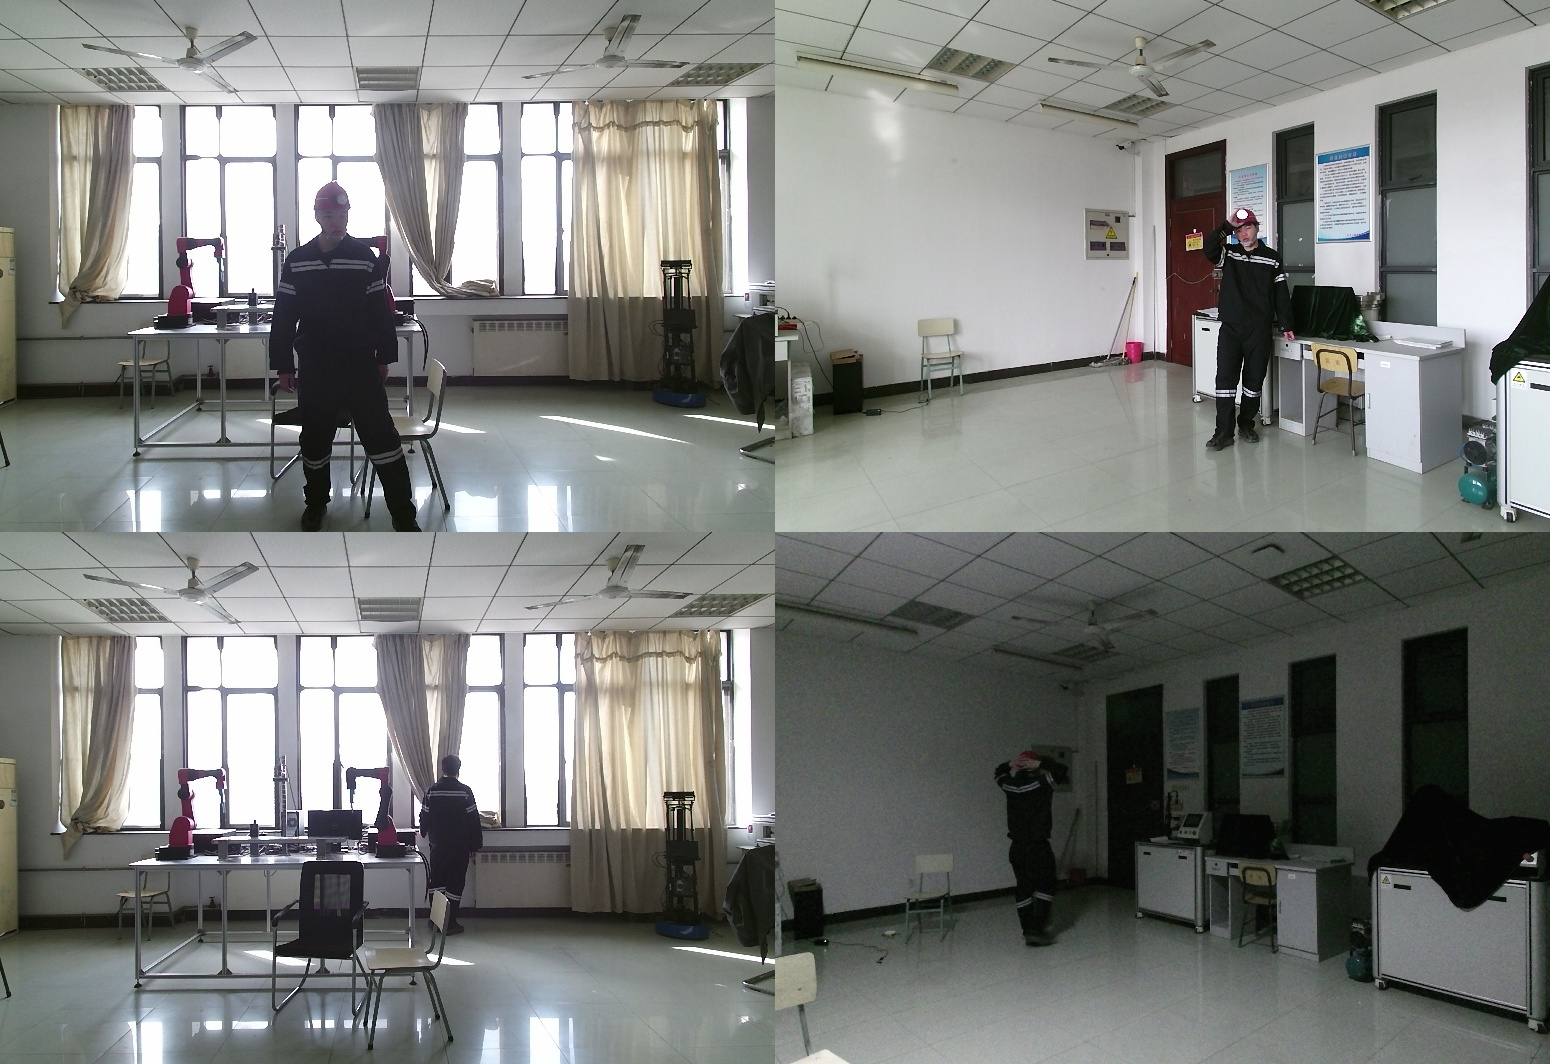person: (272, 181, 422, 532), (1207, 209, 1303, 447), (988, 750, 1067, 960), (418, 754, 483, 918)
